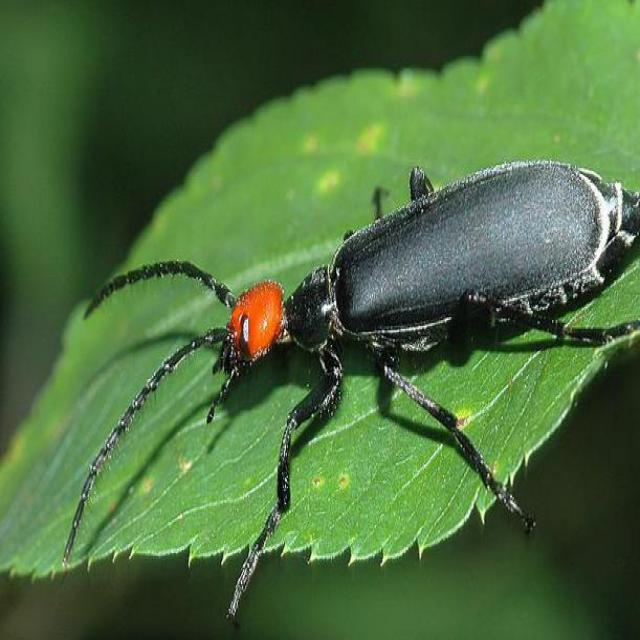BlisterBeetle-Adult-: (53, 164, 638, 508)
